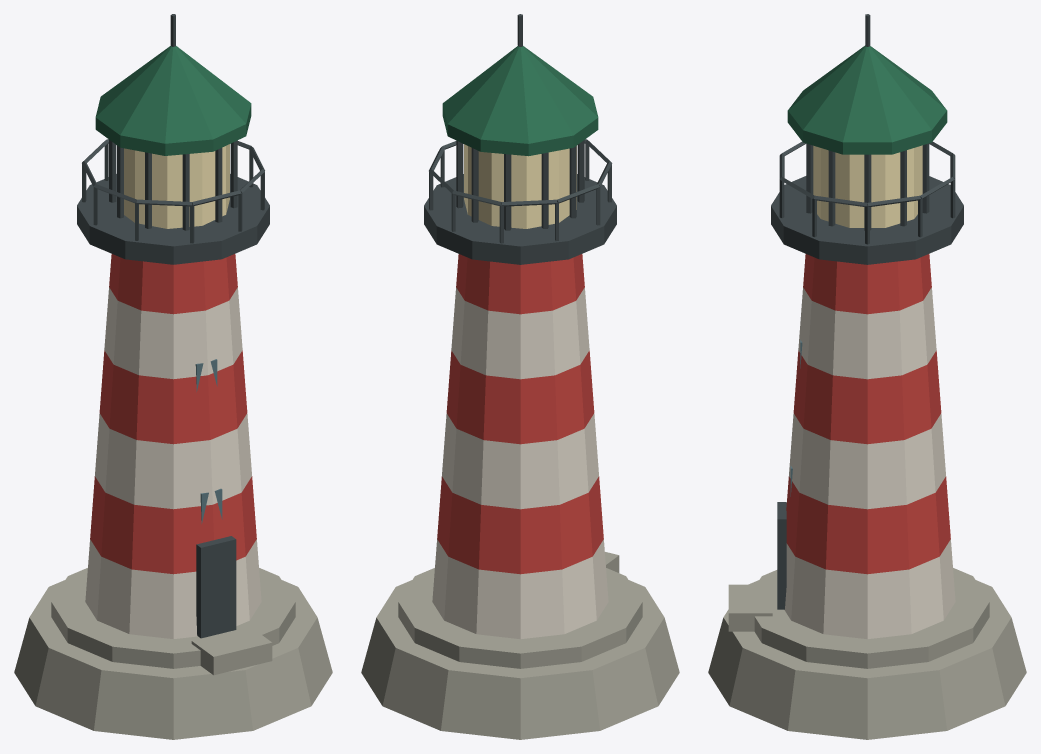
Rendered from lighthouse.glb.
3 renders of one model, left to right at view 1: azimuth 30°, elevation 25°; view 2: azimuth 150°, elevation 25°; view 3: azimuth 270°, elevation 25°, orthographic.
Visible parts, largest first — view 1: Concrete, Ivory, RescueRed, Metal, Green, Lamp, Window; view 2: Concrete, Ivory, RescueRed, Metal, Green, Lamp; view 3: Concrete, Ivory, RescueRed, Metal, Green, Lamp.
Part boxes in pixels (x1,y1,x2,y2): Concrete: (14,568,332,739); Ivory: (85,287,261,639); RescueRed: (90,254,256,574); Metal: (77,14,269,638); Green: (95,46,251,155); Lamp: (124,144,229,228); Window: (195,359,222,523); Concrete: (361,552,679,739); Ivory: (432,287,608,639); RescueRed: (437,254,603,574); Metal: (424,14,616,264); Green: (442,46,598,156); Lamp: (464,144,576,228); Concrete: (708,568,1026,739); Ivory: (784,287,955,639); RescueRed: (786,254,950,574); Metal: (771,14,963,609); Green: (787,45,947,154); Lamp: (813,145,922,227).
Size of the model in its own units: 1.88 by 4.28 by 1.88.
